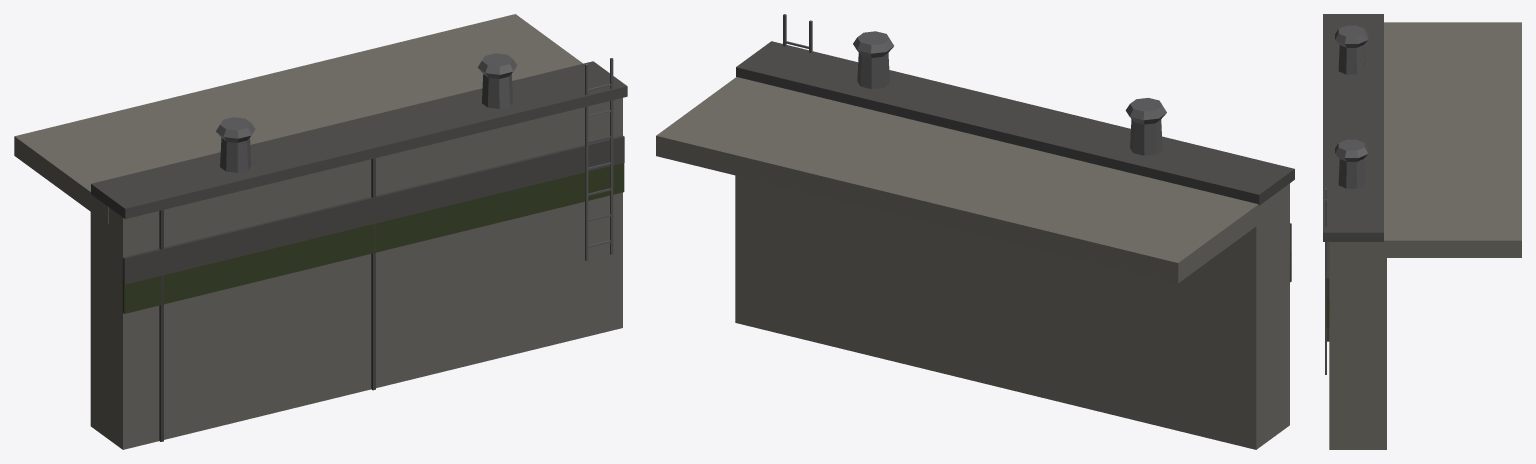
File: walk_any_quay.glb
The picture shows the model from 3 angles, left to right: view 1: azimuth 30°, elevation 25°; view 2: azimuth 150°, elevation 25°; view 3: azimuth 270°, elevation 25°; orthographic projection. The views are drawn at different scales.
Visible parts, largest first — view 1: walk_any_quay; view 2: walk_any_quay; view 3: walk_any_quay.
Boxes of the visible parts, <box> form: walk_any_quay: <box>14,14,627,449</box>; walk_any_quay: <box>656,14,1294,449</box>; walk_any_quay: <box>1323,14,1521,449</box>.
Size of what is drawn, in the model's own units: 8.06 by 4.39 by 3.09.
2 materials, 2 textured.
